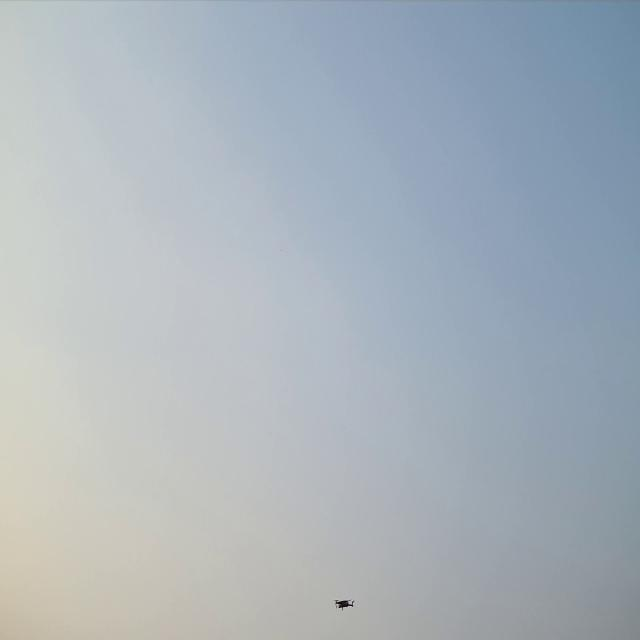UAV: (330, 594, 358, 615)
